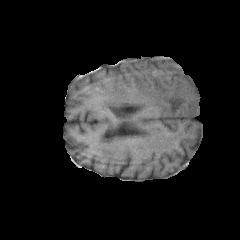glioma: (99, 64, 199, 143)
